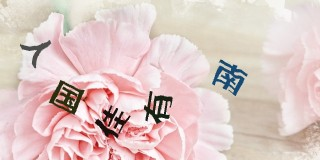人: (20, 40, 51, 69)
佳: (96, 105, 131, 138)
南: (210, 59, 248, 97)
国: (49, 79, 85, 115)
有: (143, 91, 172, 122)
